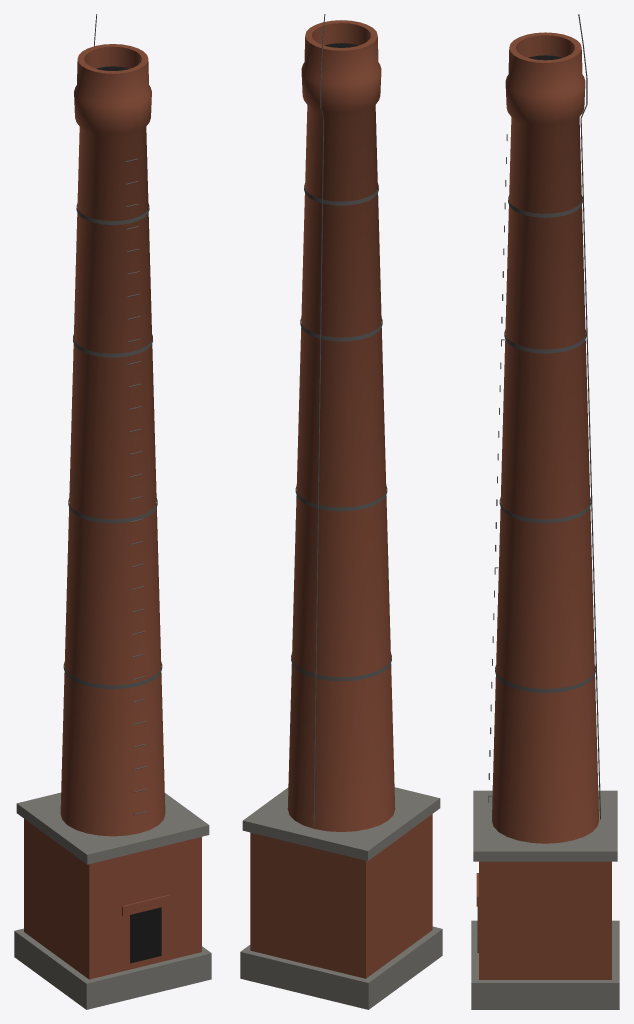
Rendered from Scenery_Chimney.fbx.
3 views of the same model, side by side, from view 1: azimuth 30°, elevation 25°; view 2: azimuth 150°, elevation 25°; view 3: azimuth 270°, elevation 25° (orthographic). The views are drawn at different scales.
Parts seen in each view (by area): view 1: Scenery_Chimney_Mesh; view 2: Scenery_Chimney_Mesh; view 3: Scenery_Chimney_Mesh.
Boxes of the visible parts, x1,y1,x2,y2 form: Scenery_Chimney_Mesh: (14, 14, 211, 1009); Scenery_Chimney_Mesh: (240, 14, 442, 1009); Scenery_Chimney_Mesh: (471, 14, 619, 1009).
Bounding box in the file's own units: 4 × 28.75 × 4.
